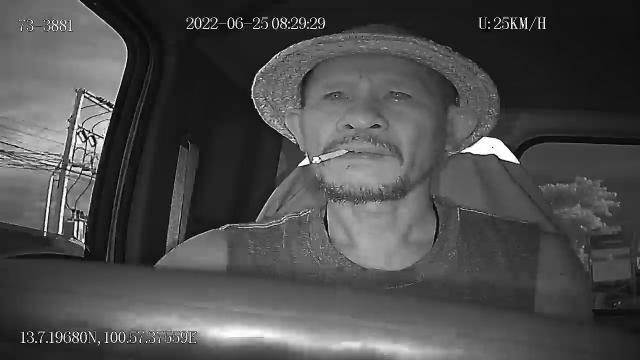SafeDriving: (378, 80, 418, 108), (318, 80, 354, 105)
Smoking: (312, 148, 350, 166)
